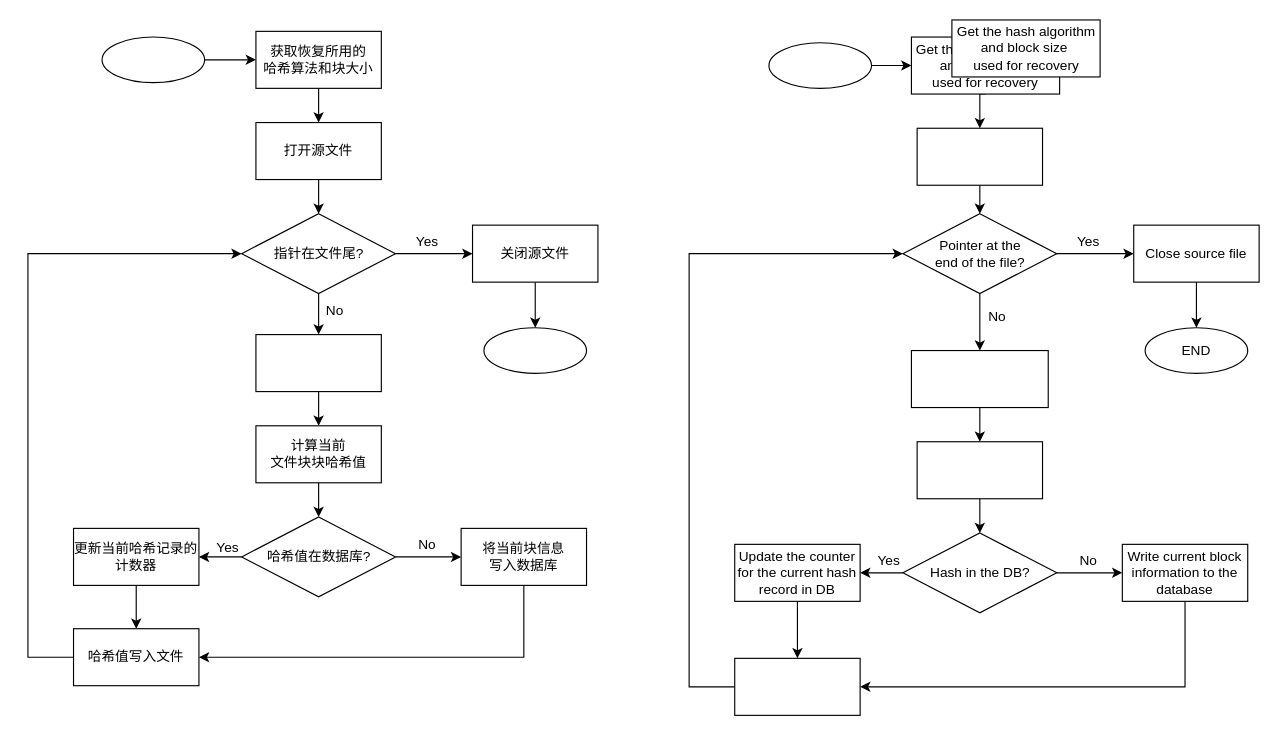
This 1279x735 diagram has some shape labels left out. Here are the shapes that lost their labels. From the top down, the centre of each, then its label:
At (x=153, y=59): "开始".
At (x=820, y=65): "START".
At (x=979, y=156): "Open source file".
At (x=318, y=362): "读取文件块 (指针后移)".
At (x=535, y=350): "结束".
At (x=979, y=378): "Read file block (Pointer moved back)".
At (x=979, y=470): "Calculate the current file block hash".
At (x=797, y=686): "Hash value written to file".
